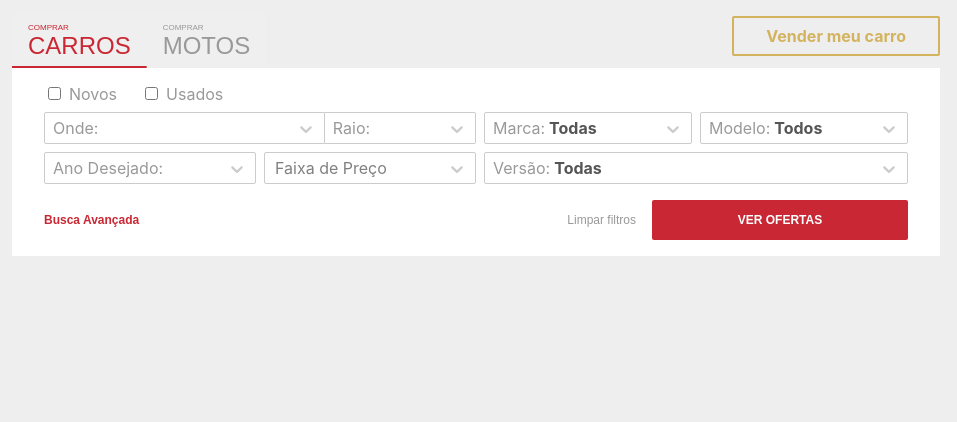
Test: renders an option for each fetched version when a model is selected
This screenshot has width=957, height=422.
Click the text "Versão:": click(696, 168) [484,152,908,184]
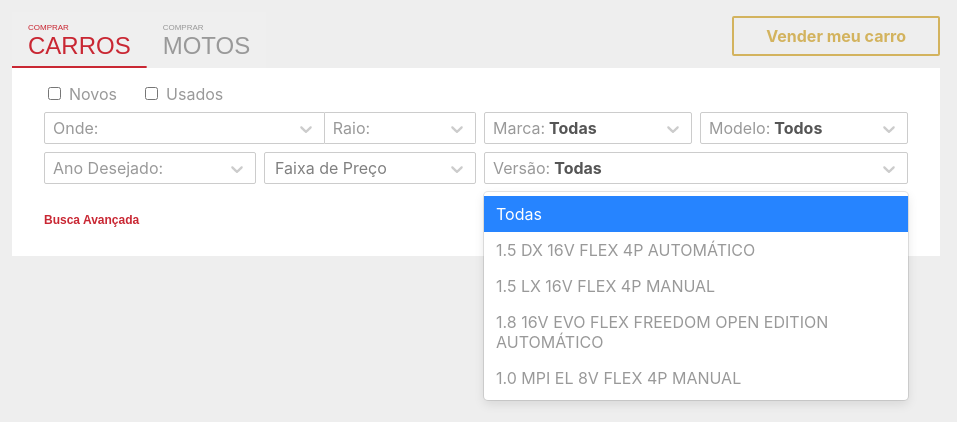
Expected: the option "1.5 DX 16V FLEX 4P AUTOMÁTICO" is shown, [496,240,755,260]
Expected: the option "1.5 LX 16V FLEX 4P MANUAL" is shown, [496,276,715,296]
Expected: the option "1.8 16V EVO FLEX FREEDOM OPEN EDITION AUTOMÁTICO" is shown, [496,312,828,352]
